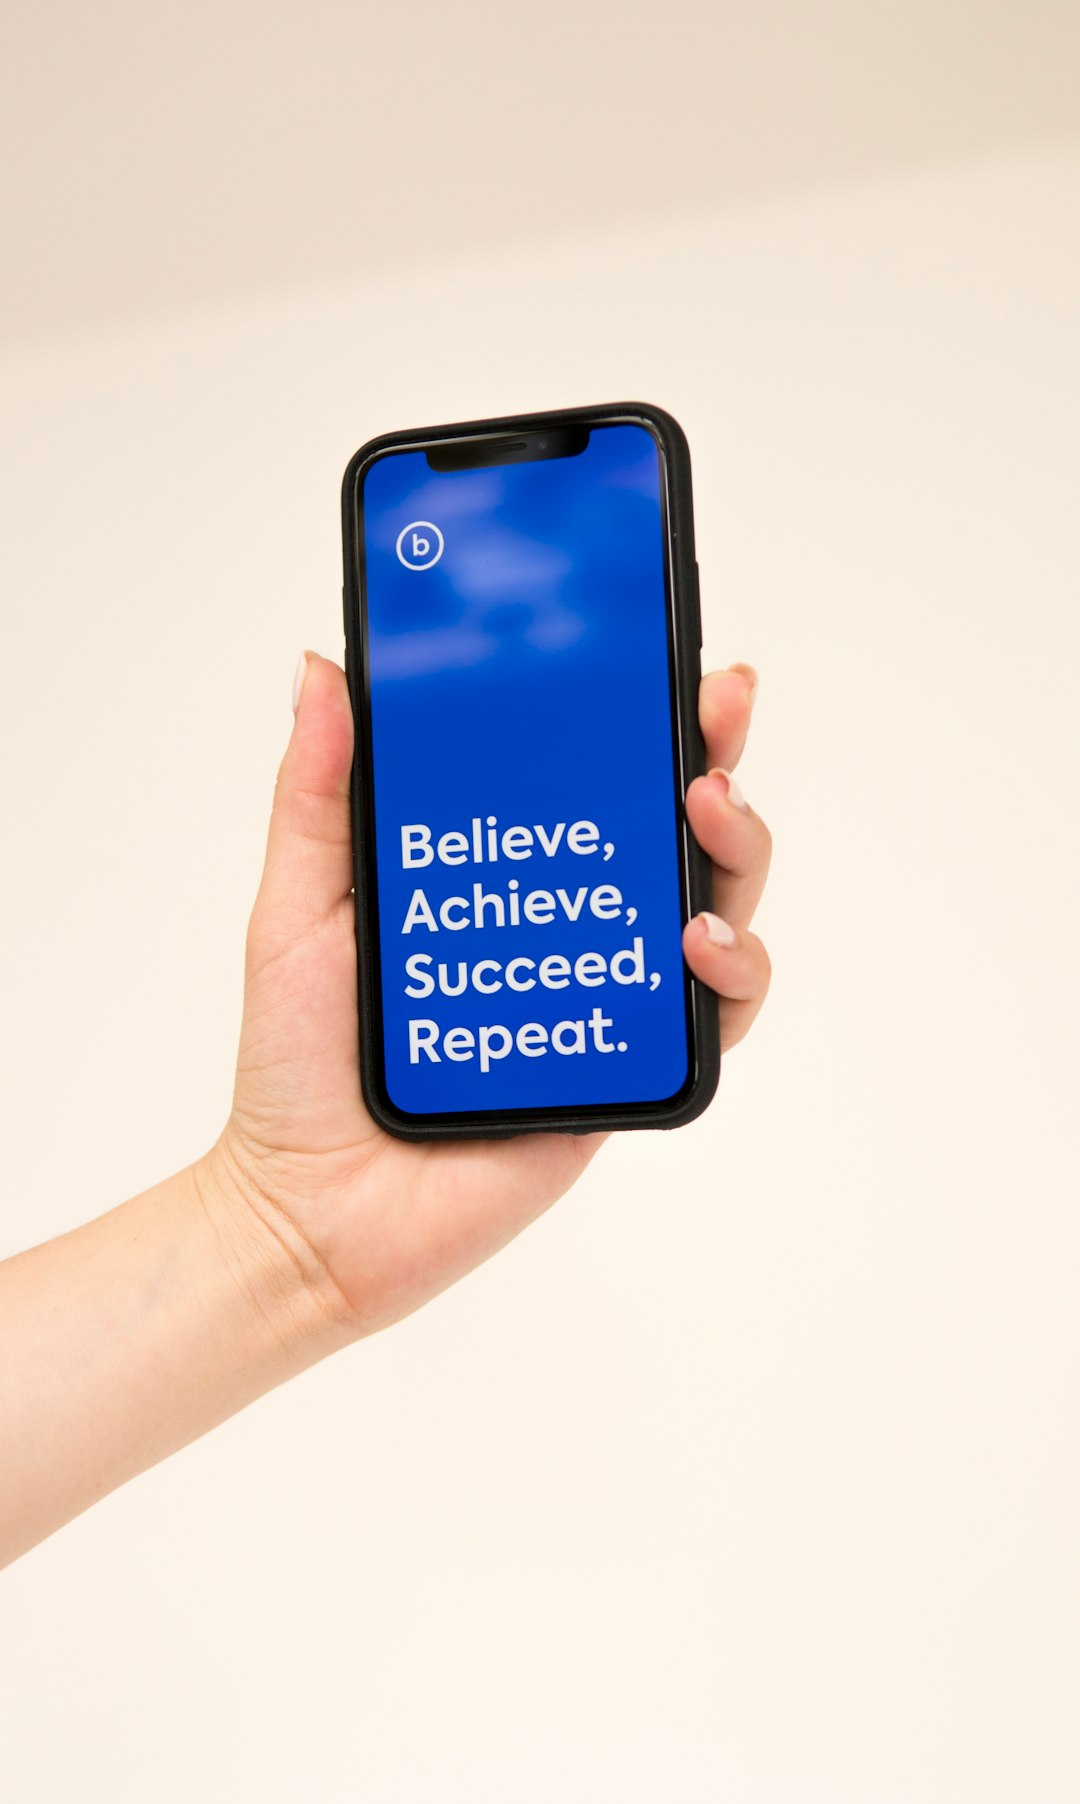phone: (338, 404, 719, 1141)
